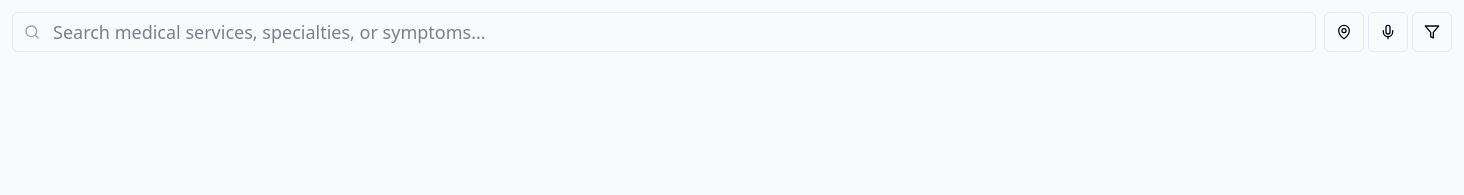
Test case: Advanced Service Search System › ServiceSearchInput › recognizes medical terms and displays indicators
The width and height of the screenshot is (1464, 195).
Type "heart disease" into the dropdown.
click(664, 32); type("heart disease")  # box [12,12,1316,52]
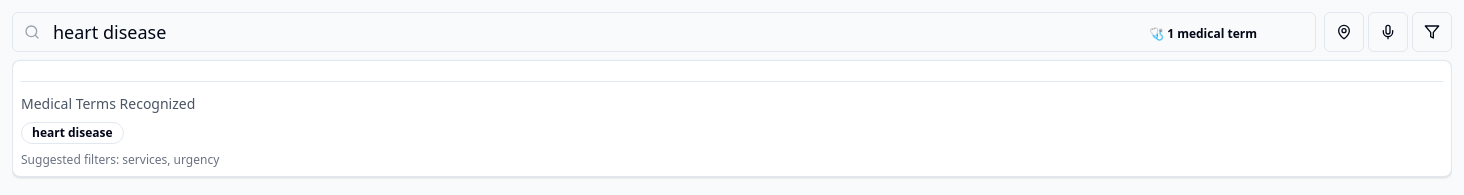
Expected: the text "🩺 1 medical term" is shown, [1149,24,1257,42]
